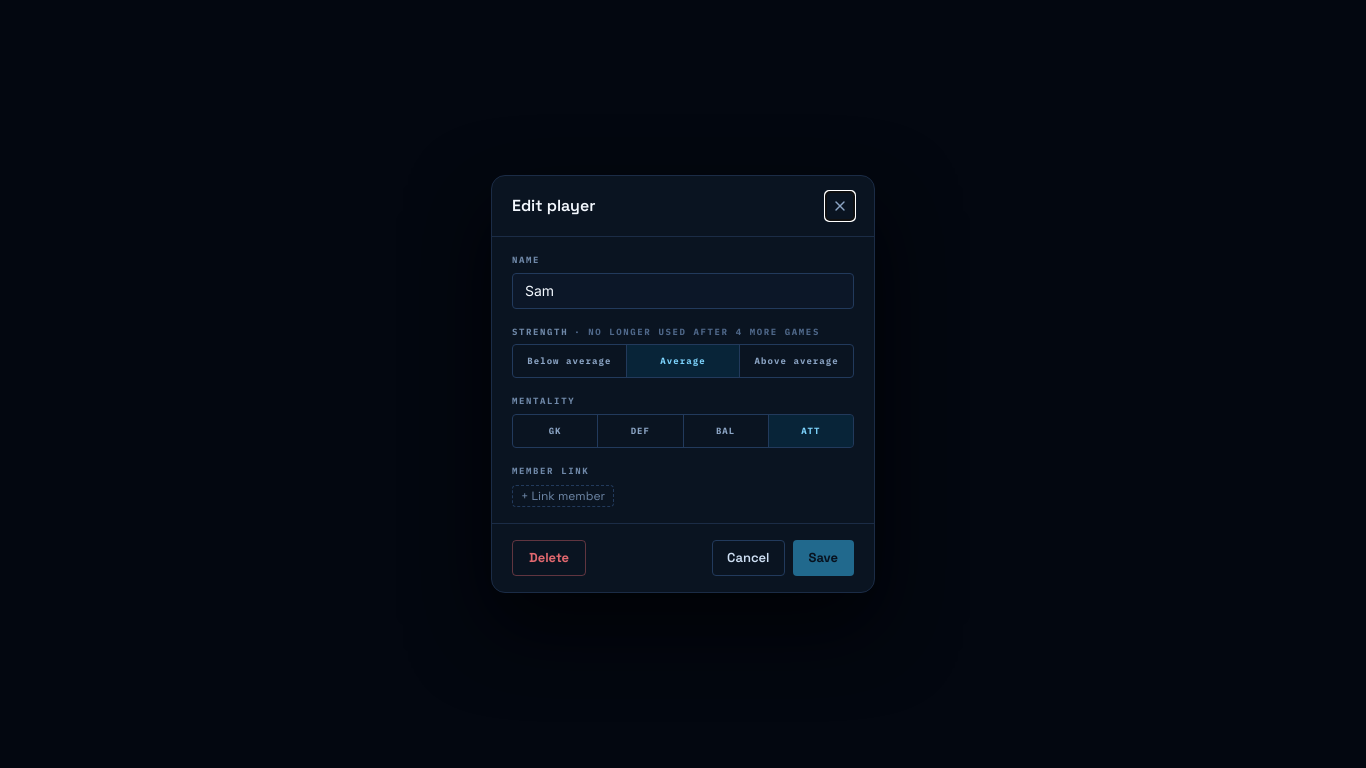
Scenario: EditPlayerModal › disables Save until something changes
The width and height of the screenshot is (1366, 768).
Expected: the button "Save" is disabled, [792, 540, 854, 576]
Click the button "DEF" at (641, 430), box [598, 414, 684, 446]
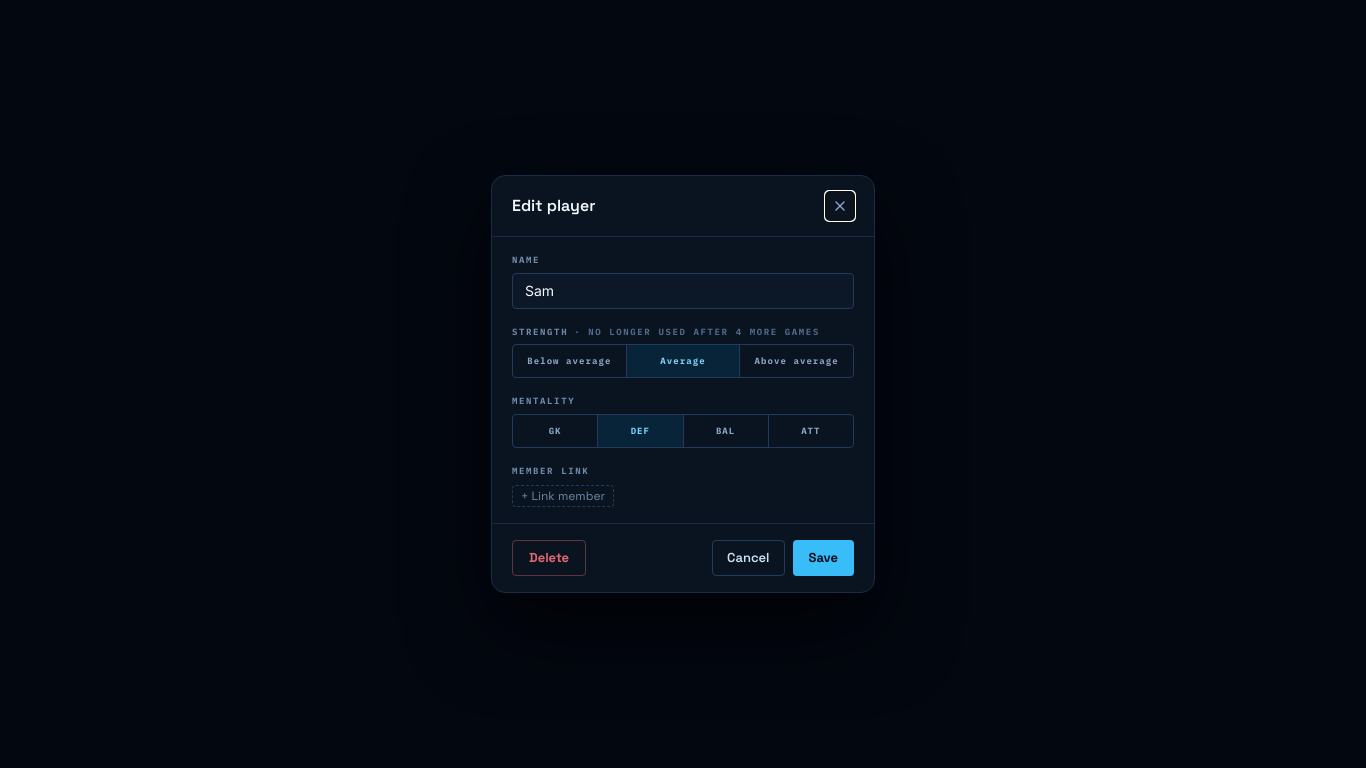
Result: the button "Save" is enabled at [792, 540, 854, 576]
